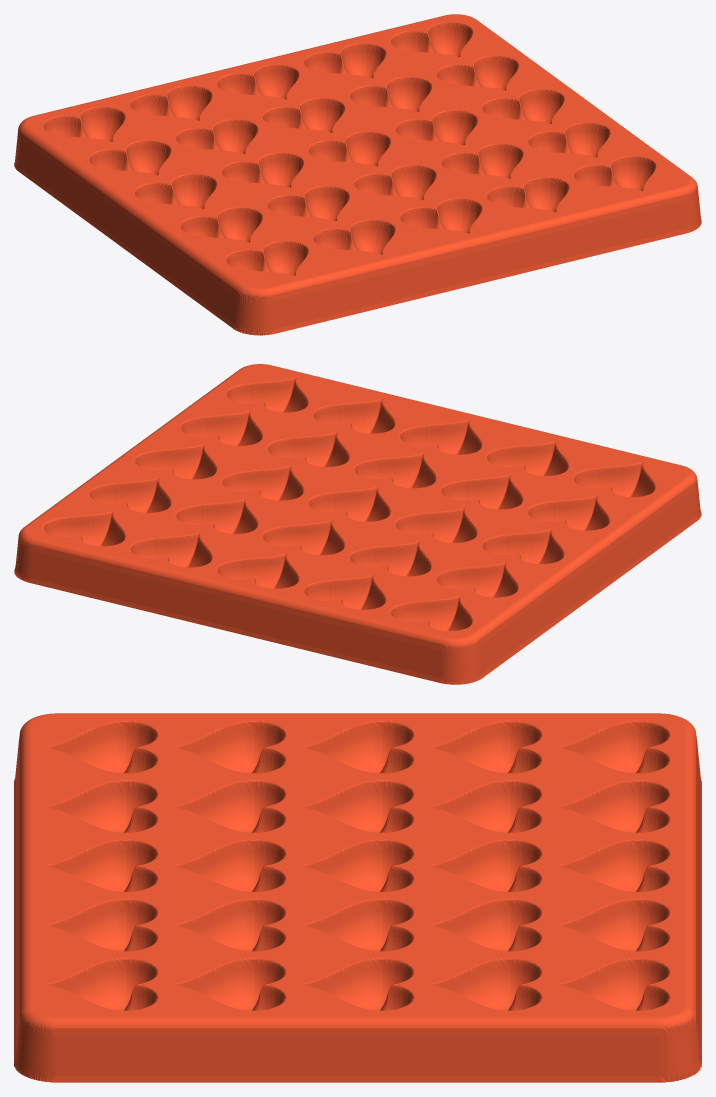
The model's file is mold.glb.
The picture shows the model from 3 angles, top to bottom: view 1: azimuth 30°, elevation 25°; view 2: azimuth 150°, elevation 25°; view 3: azimuth 270°, elevation 25°; orthographic projection. The views are drawn at different scales.
Parts seen in each view (by area): view 1: geometry_0; view 2: geometry_0; view 3: geometry_0.
Boxes of the visible parts, x1=… form: geometry_0: x1=14, y1=14, x2=701, y2=335; geometry_0: x1=14, y1=364, x2=701, y2=684; geometry_0: x1=14, y1=713, x2=701, y2=1082.
Size of the model in its own units: 0.1584 by 0.0136 by 0.1454.
